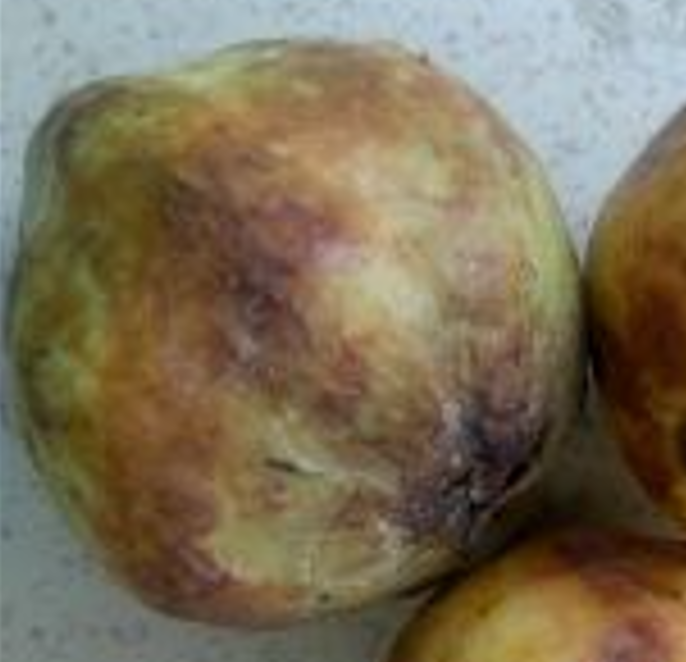guava_C: (3, 36, 589, 630)
